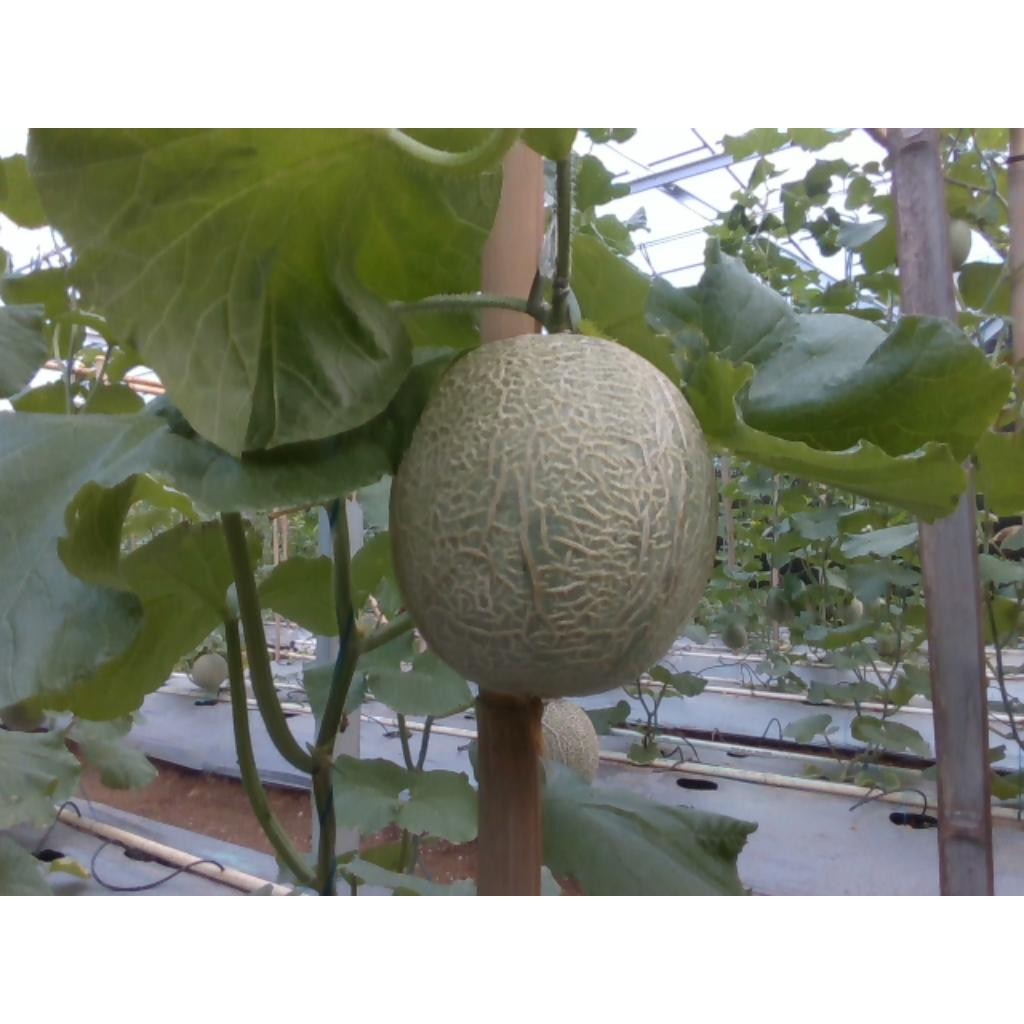melon: (392, 333, 718, 698)
